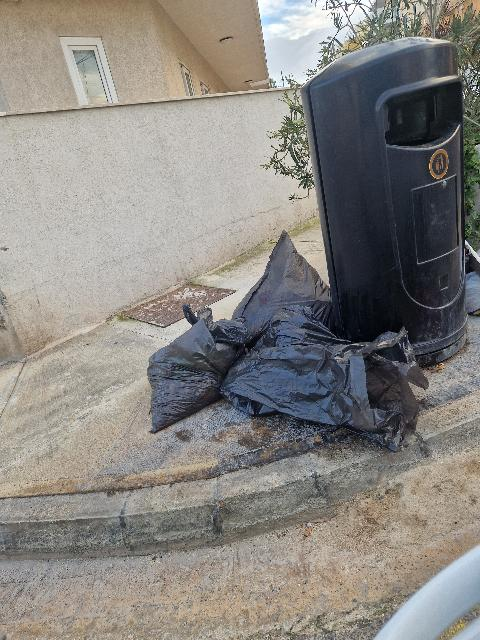Mixed -Black-: (220, 306, 428, 451), (147, 308, 244, 433), (232, 231, 332, 340)
